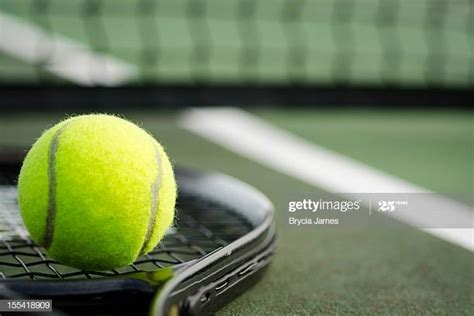tennis_ball: (16, 112, 178, 271)
